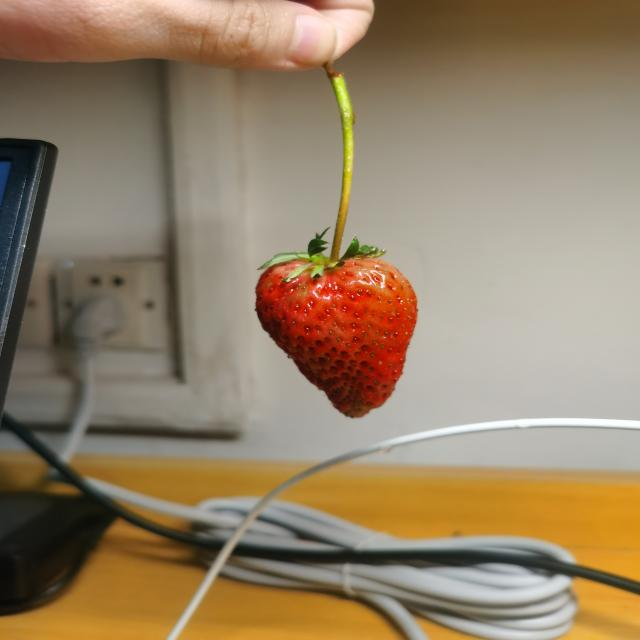stem: (328, 180, 351, 265)
strawberry: (255, 255, 419, 419)
